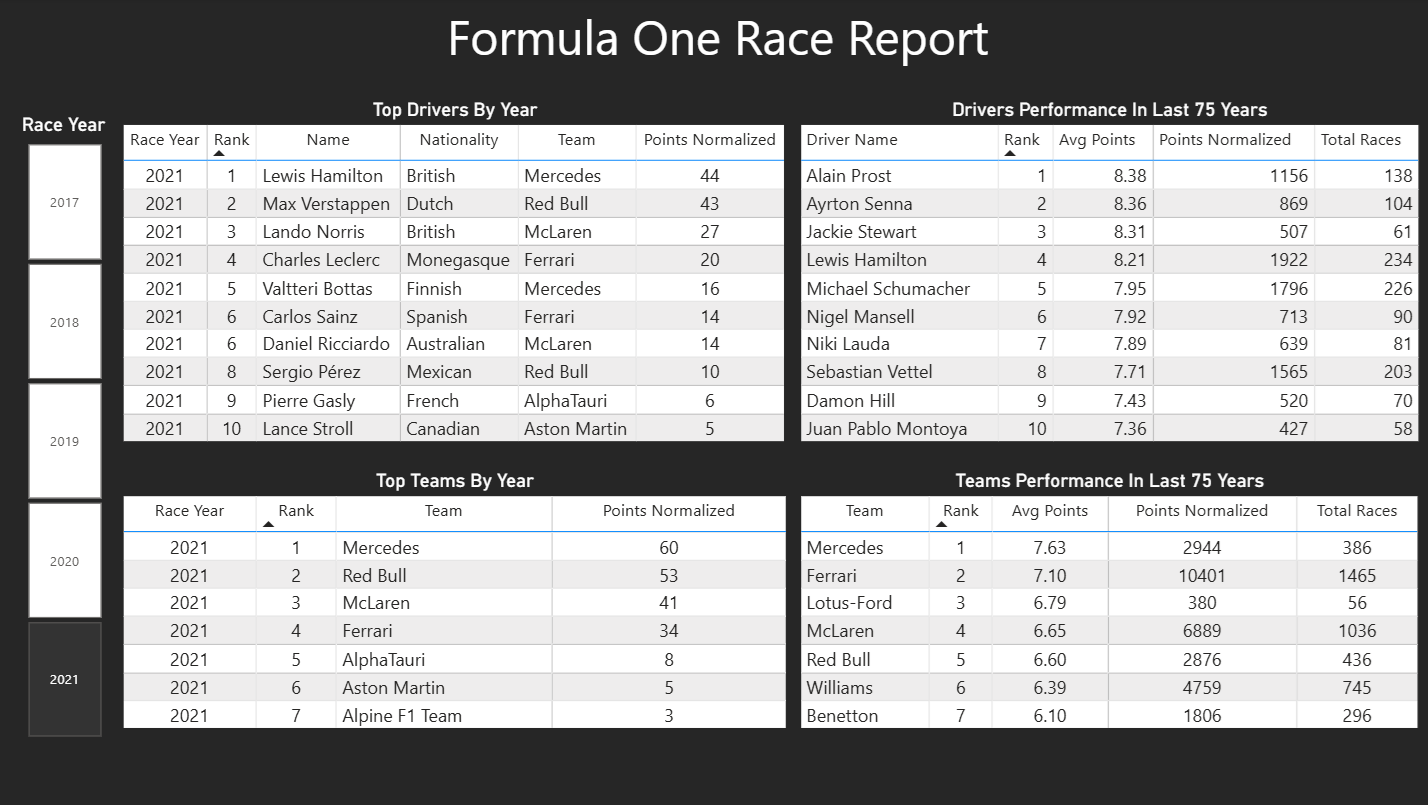

The page's visual inventory and layout, read from the dashboard file:
{"tool":"powerbi","page":{"name":"Calendar Year performance","canvas":[1280,720],"ordinal":0},"visuals":[{"type":"tableEx","title":"Top Drivers By Year","fields":{"Values":["driver_standings.race_year","driver_standings.rank","driver_standings.driver_name","driver_standings.driver_nationality","driver_team_year.team_name","driver_standings.total_points"]},"box":[105.2,89.3,602.9,316.7],"z":0},{"type":"tableEx","title":"Top Teams By Year","fields":{"Values":["constructuor_standings.race_year","constructuor_standings.rank","constructuor_standings.team","constructuor_standings.total_points"]},"box":[105.2,419.4,602.9,281.3],"z":1000},{"type":"slicer","title":"Race Year","fields":{"Values":["DimYear.YearKey"]},"box":[0,102.7,114.9,562.5],"z":2000},{"type":"tableEx","title":"Drivers Performance In Last 75 Years","fields":{"Values":["top_drivers.driver_name","top_drivers.driver_rank","top_drivers.avg_points","top_drivers.total_points","top_drivers.total_races"]},"box":[708,89.3,562.5,316.7],"z":3000},{"type":"tableEx","title":"Teams Performance In Last 75 Years","fields":{"Values":["top_teams.team_name","top_teams.team_rank","top_teams.avg_points","top_teams.total_points","top_teams.total_races"]},"box":[708,419.4,562.5,281.3],"z":4000},{"type":"textbox","box":[0,0,1280.3,89.3],"z":5000}]}

Visuals, with their boxes in screenshot pixels (x1, y1, x2, y2), scaled from the page's 1280x720 canvas onto the 1428x805 screenshot:
"Top Drivers By Year" tableEx: [x1=117, y1=100, x2=790, y2=454]
"Top Teams By Year" tableEx: [x1=117, y1=469, x2=790, y2=783]
"Race Year" slicer: [x1=0, y1=115, x2=128, y2=744]
"Drivers Performance In Last 75 Years" tableEx: [x1=790, y1=100, x2=1417, y2=454]
"Teams Performance In Last 75 Years" tableEx: [x1=790, y1=469, x2=1417, y2=783]
textbox: [x1=0, y1=0, x2=1427, y2=100]
